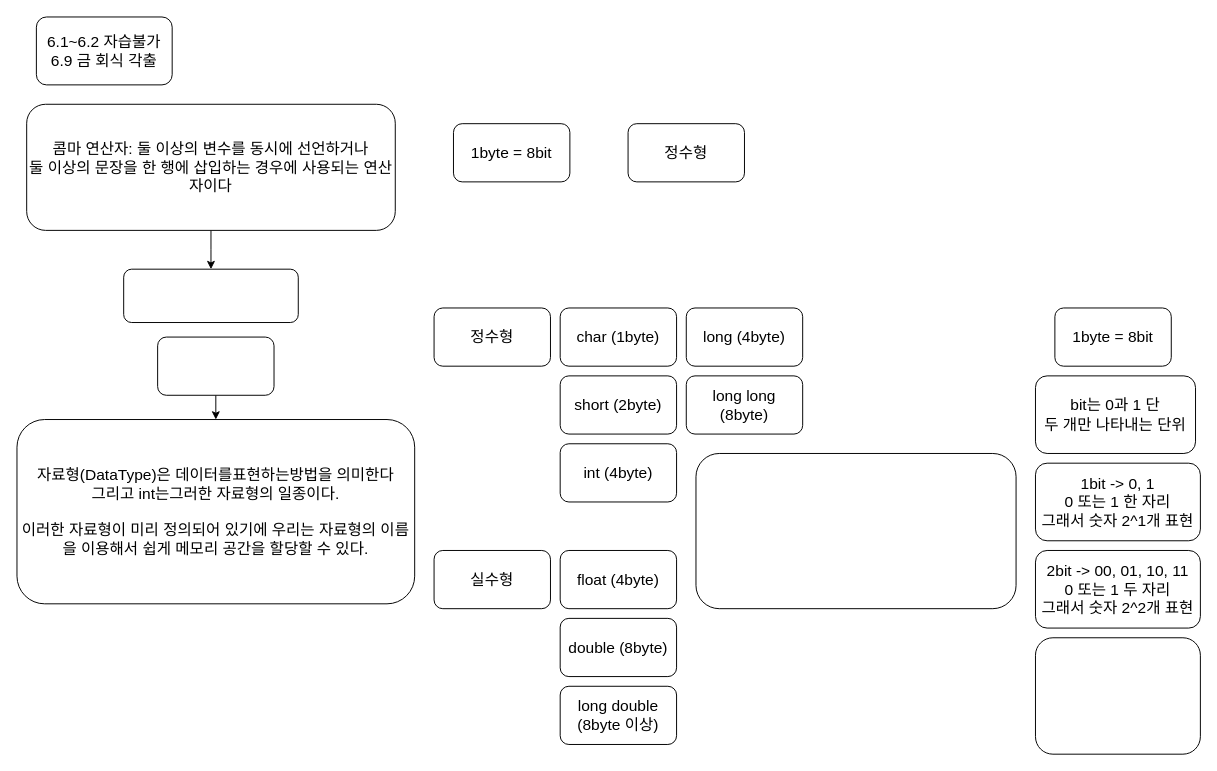
Some shapes in this 1217 by 771 pixel diagram are drawn without their labels. Here are the shapes that lost their labels. From the top down, the box of each, then its label:
(123, 268, 298, 323): int num1, num2;
(157, 336, 274, 395): 자료형
(695, 453, 1016, 609): 책이나 블로그에 나와있는 자료형 크기 말고, 내 컴퓨터에 맞는 자료형 크기를 직접 알아보고 싶은 경우에 sizeof()라는 함수를 사용한다.
(1035, 637, 1200, 754): 3bit -> 000, 001, 010, 011, 100, 101, 110, 111 0 또는 1 세 자리 그래서 숫자 2^3개 표현
